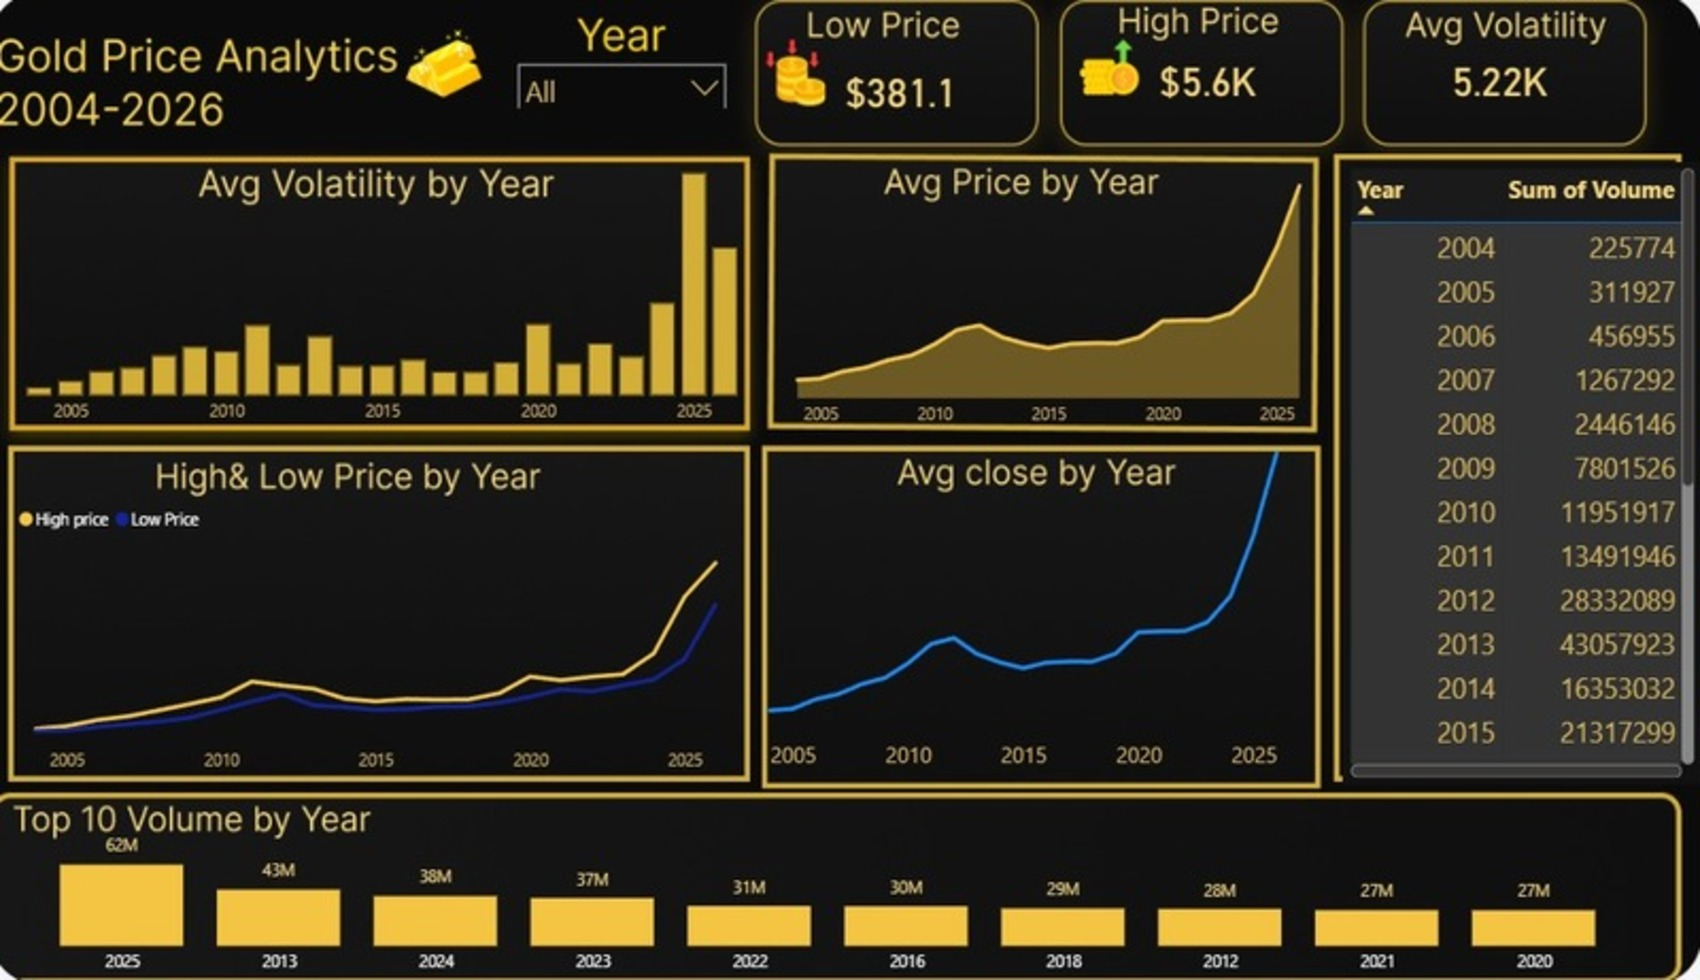

This screenshot's page, from the dashboard's own definition file:
{"tool":"powerbi","page":{"name":"Page 6","canvas":[1280,720],"ordinal":5},"visuals":[{"type":"columnChart","fields":{"Category":["XAU_1Month_data.Date.Variation.Date Hierarchy.Year","XAU_1Month_data.Date.Variation.Date Hierarchy.Quarter","XAU_1Month_data.Date.Variation.Date Hierarchy.Month","XAU_1Month_data.Date.Variation.Date Hierarchy.Day"],"Y":["Table.AVG Volatility"]},"box":[17.8,108.4,551.6,211.3],"z":0},{"type":"card","fields":{"Values":["Table.Low Price"]},"box":[569.5,0,222.3,135.8],"z":1000},{"type":"card","fields":{"Values":["Table.High price"]},"box":[808.2,0,204.5,119.4],"z":2000},{"type":"slicer","fields":{"Values":["XAU_1Month_data.Year"]},"box":[384.2,38.4,175.6,42.5],"z":3000},{"type":"card","fields":{"Values":["Table.AVG Volatility"]},"box":[1012.7,0,231.9,119.4],"z":4000},{"type":"areaChart","fields":{"Y":["Table.avg price"],"Category":["XAU_1Month_data.Date.Variation.Date Hierarchy.Year"]},"box":[585.9,119.4,411.7,201.7],"z":5000},{"type":"lineChart","fields":{"Y":["Table.High price"],"Category":["XAU_1Month_data.Year"],"Y2":["Table.Low Price"]},"box":[15.1,359.5,544.8,212.7],"z":6000},{"type":"lineChart","fields":{"Category":["XAU_1Month_data.Date.Variation.Date Hierarchy.Year","XAU_1Month_data.Date.Variation.Date Hierarchy.Quarter","XAU_1Month_data.Date.Variation.Date Hierarchy.Month","XAU_1Month_data.Date.Variation.Date Hierarchy.Day"],"Y":["Avg(XAU_1Month_data.Close)"]},"box":[559.9,312.9,425.4,259.3],"z":7000},{"type":"tableEx","fields":{"Values":["XAU_1Month_data.Date.Variation.Date Hierarchy.Year","Sum(XAU_1Month_data.Volume)"]},"box":[1012,119.7,268,451.8],"z":8000},{"type":"columnChart","title":"Top 10 volume by Year","fields":{"Y":["Sum(XAU_1Month_data.Volume)"],"Category":["XAU_1Month_data.Year"]},"box":[0,594.4,1254.3,125.4],"z":9000}]}

Visuals, with their boxes in screenshot pixels (x1, y1, x2, y2), scaled from the page's 1280x720 canvas onto the 1700x980 screenshot:
columnChart - XAU_1Month_data.Date.Variation.Date Hierarchy.Year x XAU_1Month_data.Date.Variation.Date Hierarchy.Quarter: box(24, 148, 756, 435)
card - Table.Low Price: box(756, 0, 1052, 185)
card - Table.High price: box(1073, 0, 1345, 163)
slicer - XAU_1Month_data.Year: box(510, 52, 743, 110)
card - Table.AVG Volatility: box(1345, 0, 1653, 163)
areaChart - Table.avg price x XAU_1Month_data.Date.Variation.Date Hierarchy.Year: box(778, 163, 1325, 437)
lineChart - Table.High price x XAU_1Month_data.Year: box(20, 489, 744, 779)
lineChart - XAU_1Month_data.Date.Variation.Date Hierarchy.Year x XAU_1Month_data.Date.Variation.Date Hierarchy.Quarter: box(744, 426, 1309, 779)
tableEx - XAU_1Month_data.Date.Variation.Date Hierarchy.Year x Sum(XAU_1Month_data.Volume): box(1344, 163, 1699, 778)
"Top 10 volume by Year" columnChart: box(0, 809, 1666, 979)
